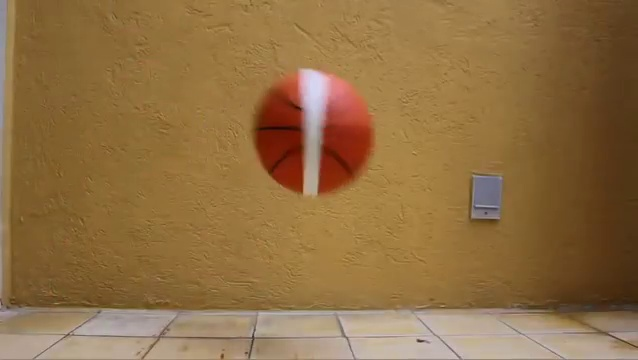ball: (254, 67, 375, 193)
